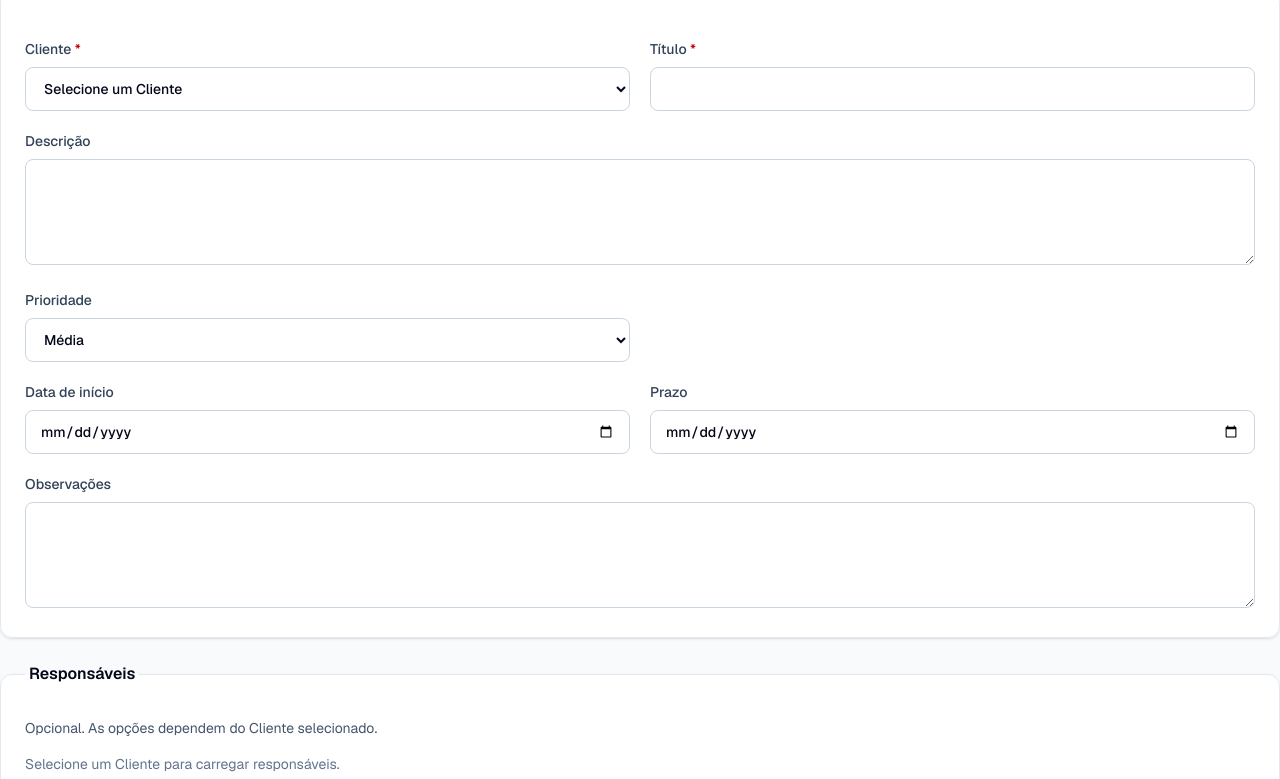
Test: CreateDemandForm › maps server field errors and global errors
Select "Cliente Alfa" in the dropdown labelled "Cliente" at (328, 89), box [25, 67, 630, 111]
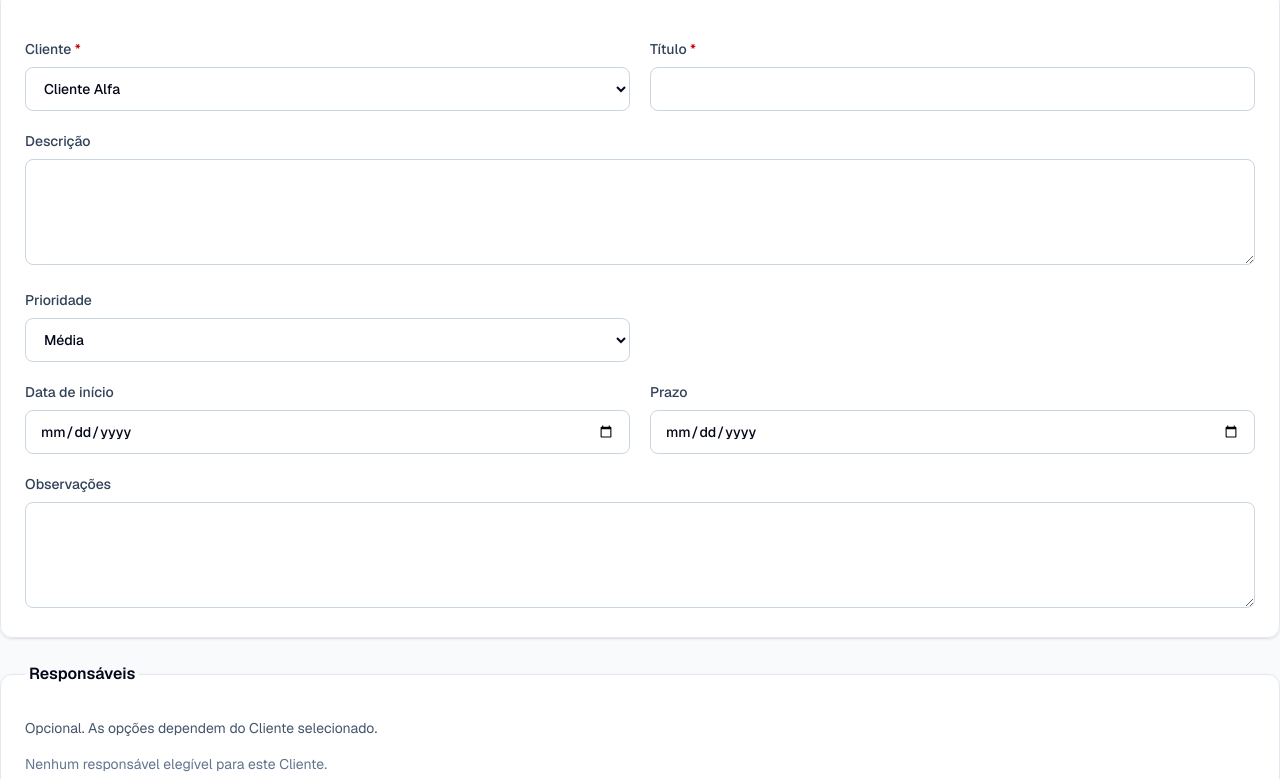
Check: the text "Nenhum responsável elegível para este Cliente." is shown, box [25, 755, 327, 773]
Type "Título" into the field labelled "Título" at (952, 89), box [650, 67, 1255, 111]
(page scrolled)
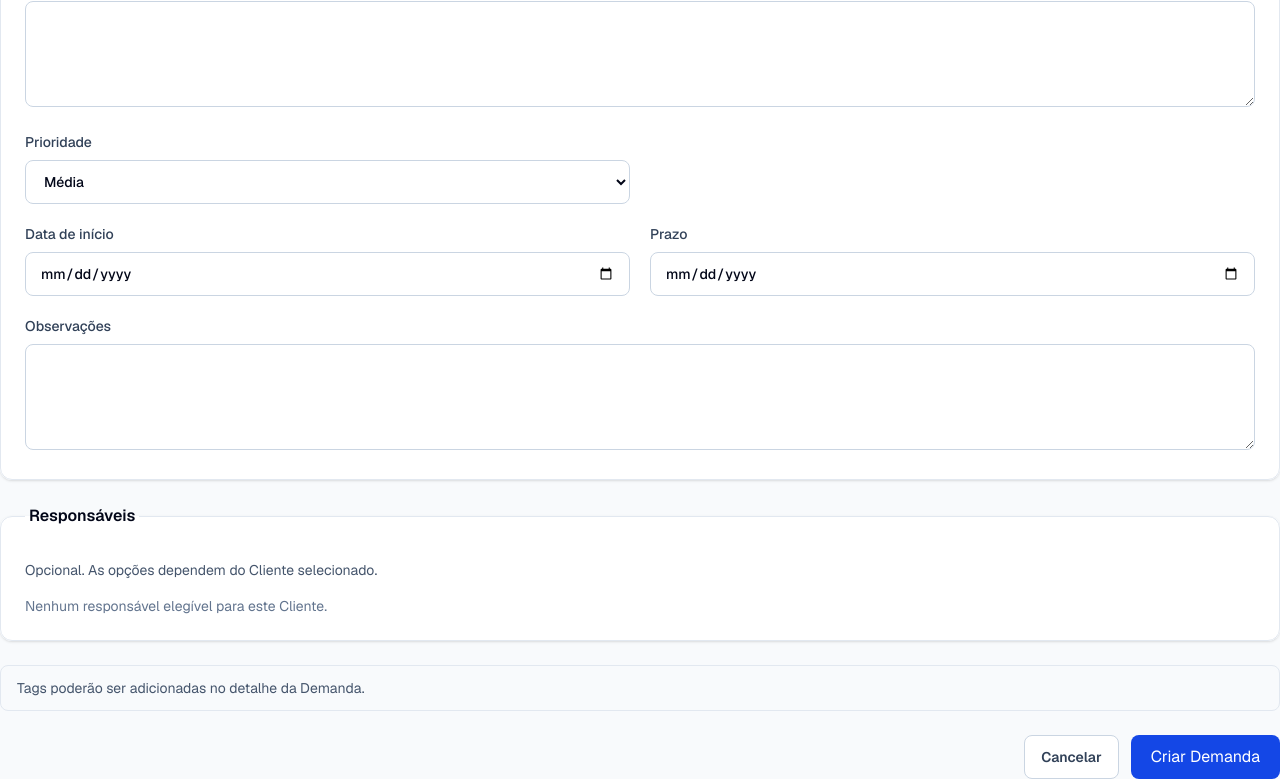
Click the button "Criar Demanda" at (1205, 757), box [1131, 735, 1279, 778]
(page scrolled)
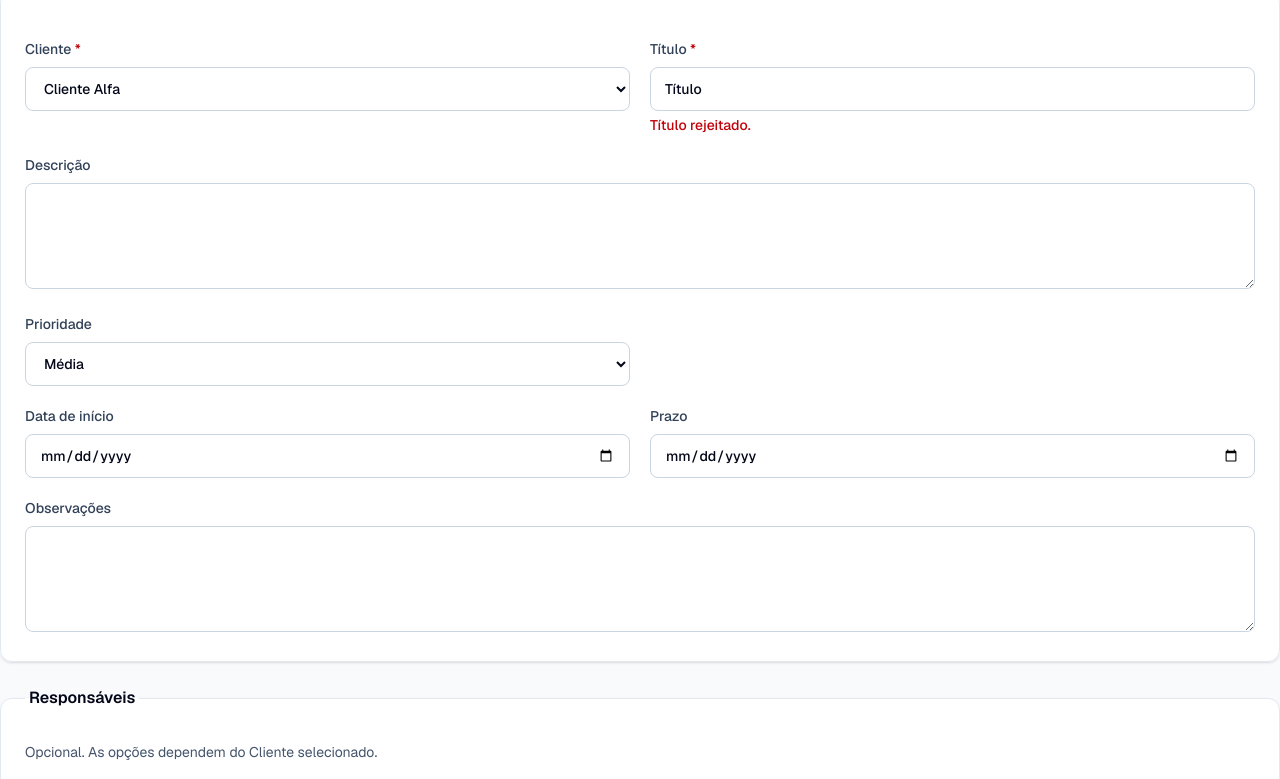
Check: the text "Título rejeitado." is shown, box [650, 116, 751, 134]
